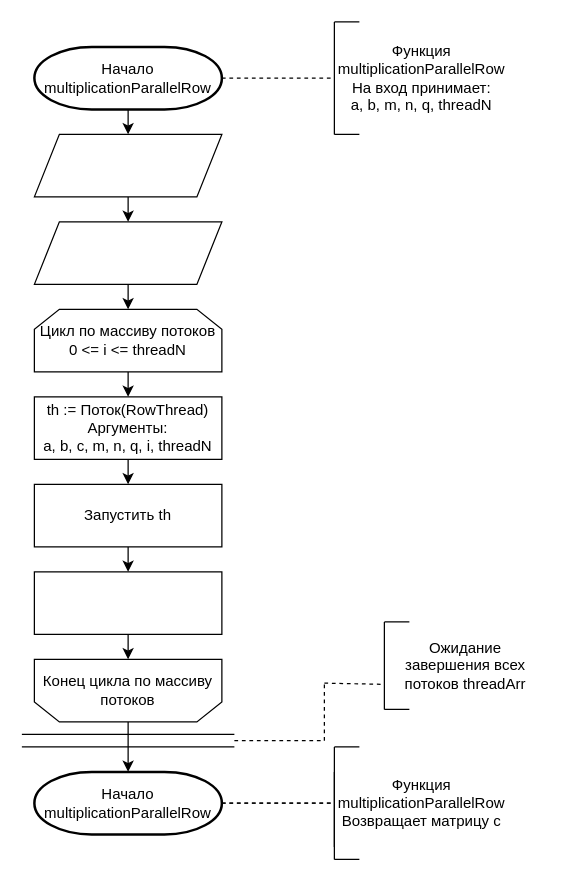
This 569x883 diagram has some shape labels left out. The shapes that lost their labels are listed below. From the top down, each one's box as (x1, y1, x2, y2) in pixels, then its label:
(33, 133, 222, 197): Создание матрицы с размерами m x q
(33, 221, 222, 284): Создание массива потоков threadArr с размером threadN
(33, 571, 222, 634): threadArr[i] := th
